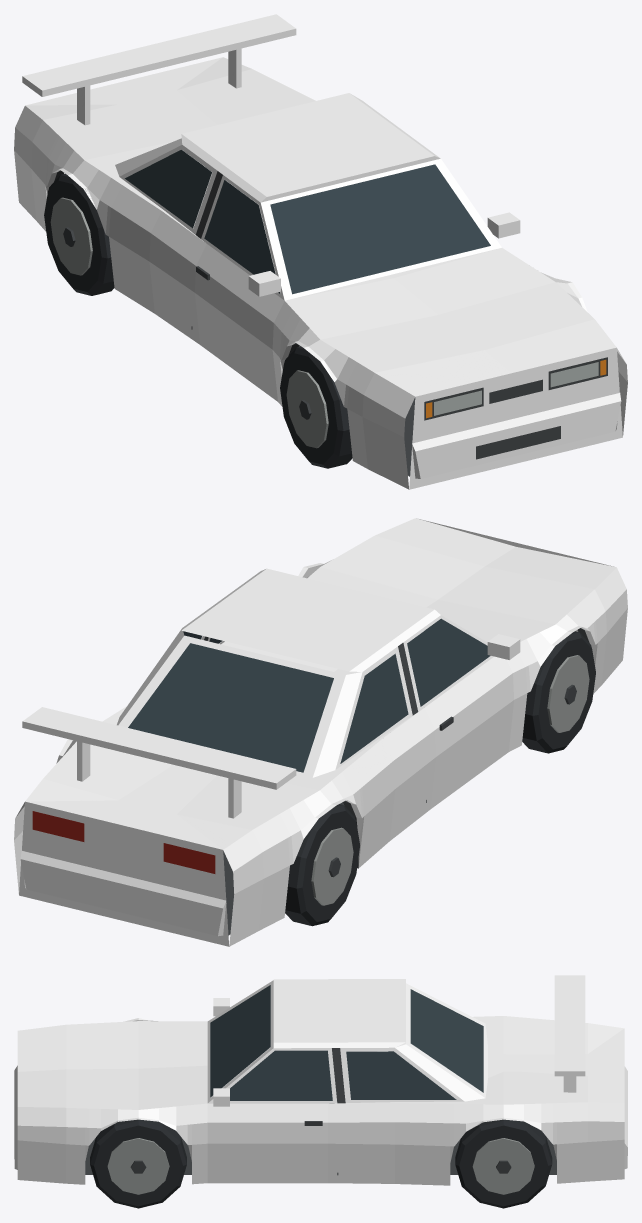
Rendered from kanaya_benibana_corrida.glb.
3 views of the same model, one above another, from view 1: azimuth 30°, elevation 25°; view 2: azimuth 150°, elevation 25°; view 3: azimuth 270°, elevation 25° (orthographic). The views are drawn at different scales.
Parts seen in each view (by area): view 1: kanaya_benibana_corrida; view 2: kanaya_benibana_corrida; view 3: kanaya_benibana_corrida.
Part boxes in pixels (x1,y1,x2,y2): kanaya_benibana_corrida: [14, 14, 627, 489]; kanaya_benibana_corrida: [14, 518, 627, 946]; kanaya_benibana_corrida: [14, 975, 627, 1208].
Bounding box in the file's own units: 1.73 × 1.2 × 4.42.
Materials: 8 (1 with a texture image).
